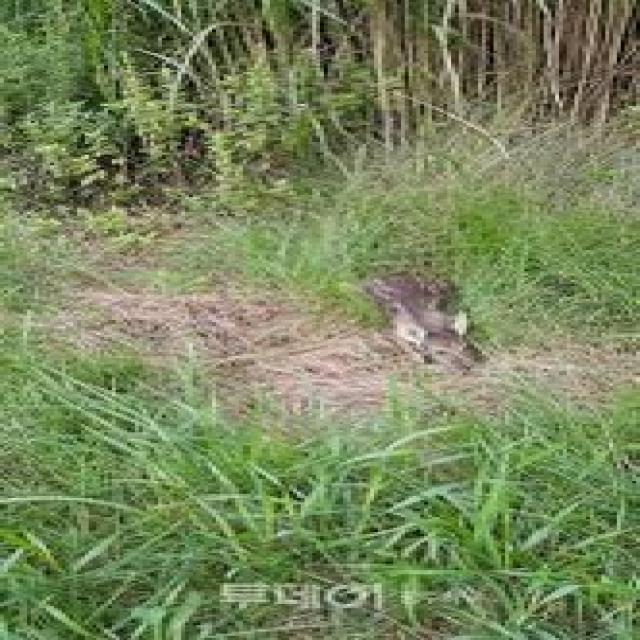elk: (303, 266, 513, 398)
